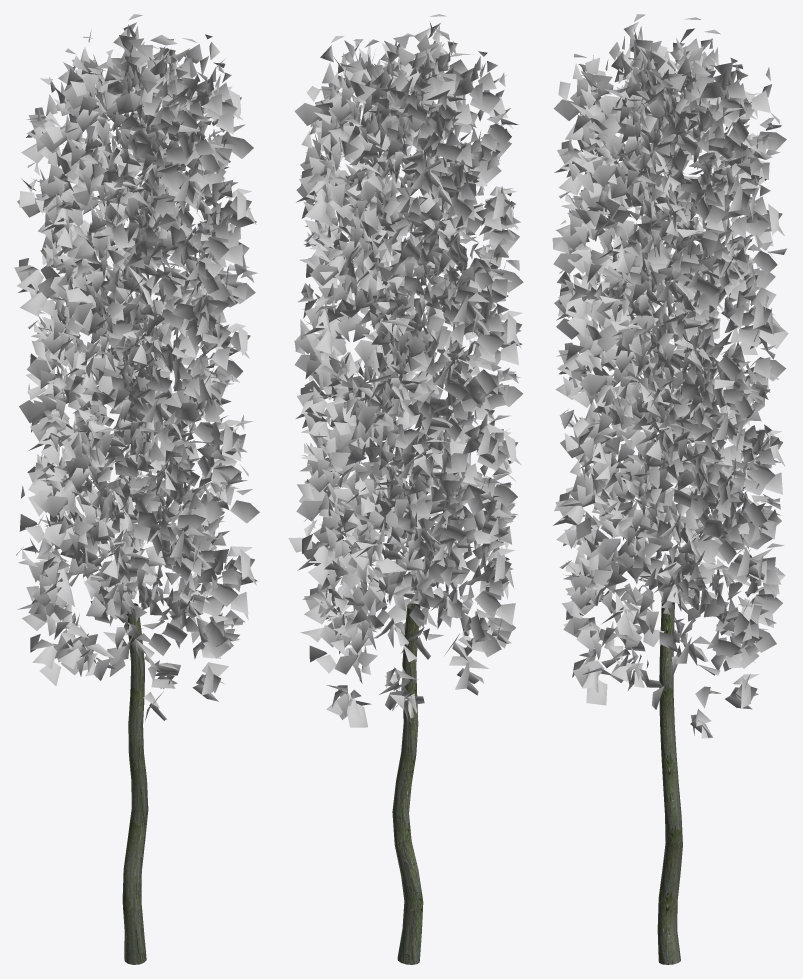
Rendered from tree 1.FBX.
The picture shows the model from 3 angles, left to right: view 1: azimuth 30°, elevation 25°; view 2: azimuth 150°, elevation 25°; view 3: azimuth 270°, elevation 25°; orthographic projection.
Visible parts, largest first — view 1: Leaf01_9; view 2: Leaf01_9; view 3: Leaf01_9.
Boxes of the visible parts, x1,y1,x2,y2 form: Leaf01_9: (14, 14, 259, 964); Leaf01_9: (288, 14, 523, 964); Leaf01_9: (552, 14, 788, 964).
Bounding box in the file's own units: 10143 × 43635 × 10164.
